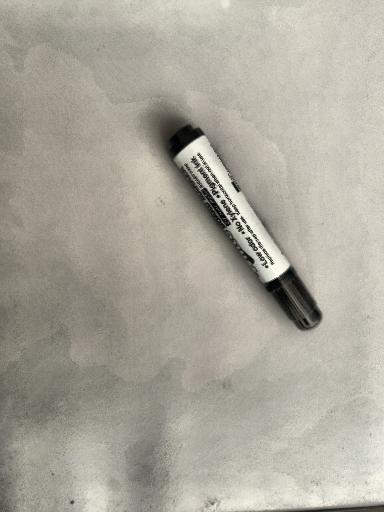marcador negro: (169, 125, 322, 331)
